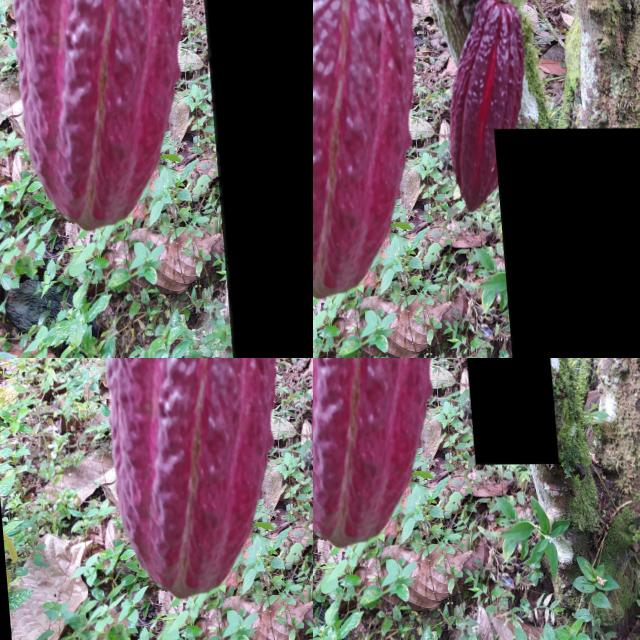Sana: (191, 0, 313, 358), (488, 128, 640, 358), (313, 358, 447, 551), (211, 419, 310, 640), (454, 358, 552, 465), (144, 604, 213, 640)
